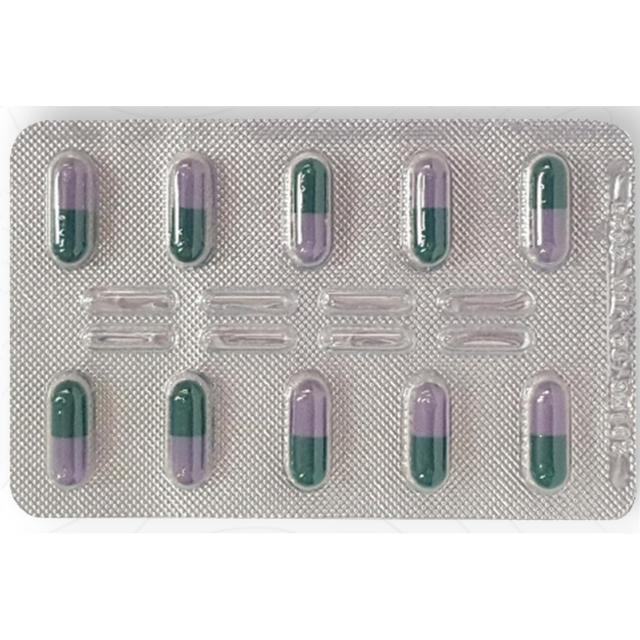blister: (9, 112, 639, 522)
